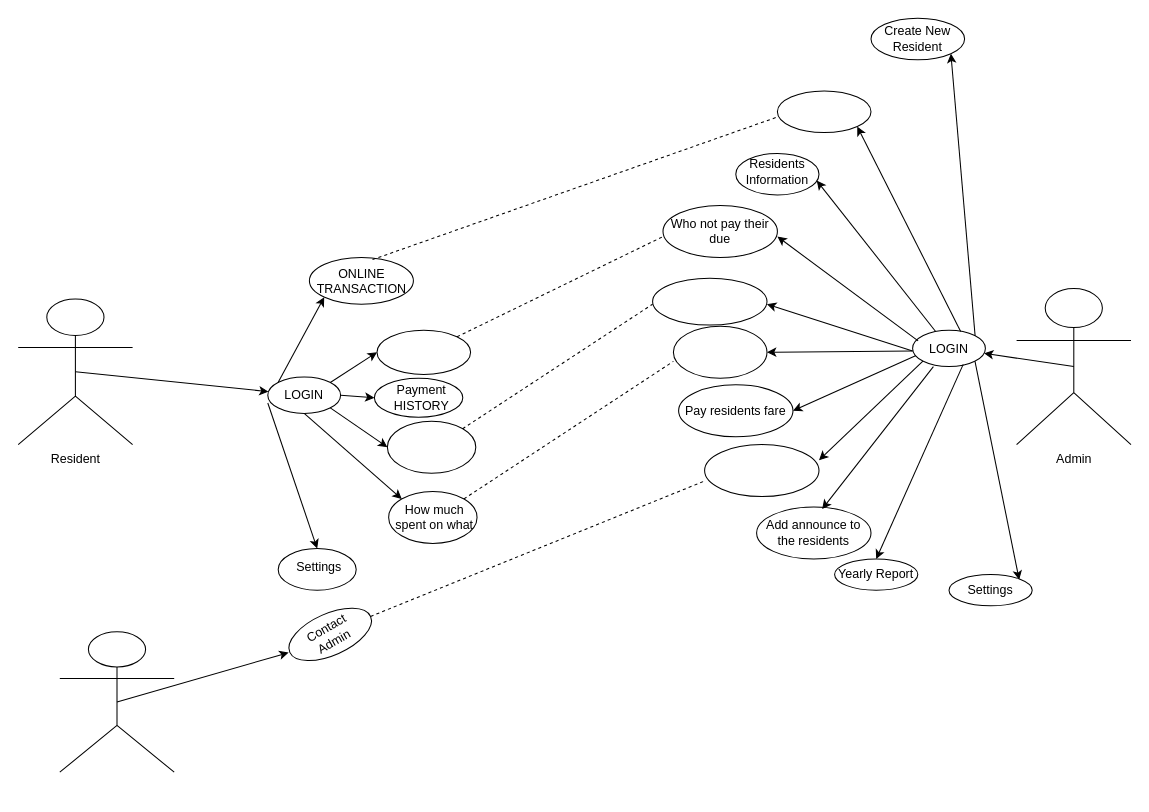
This 1149x812 diagram has some shape labels left out. The shapes that lost their labels are listed below. From the top down, each one's box as (x1, y1, x2, y2) in pixels, then its label:
(776, 90, 871, 133): Add Fare to the Resident
(652, 277, 767, 325): Add other expense to the user
(376, 329, 471, 374): CHECKING DEBT
(672, 325, 767, 378): Add expense details
(386, 420, 476, 473): Pay additional fares
(704, 444, 819, 497): Incoming messages
(59, 631, 174, 772): Non-Resident
